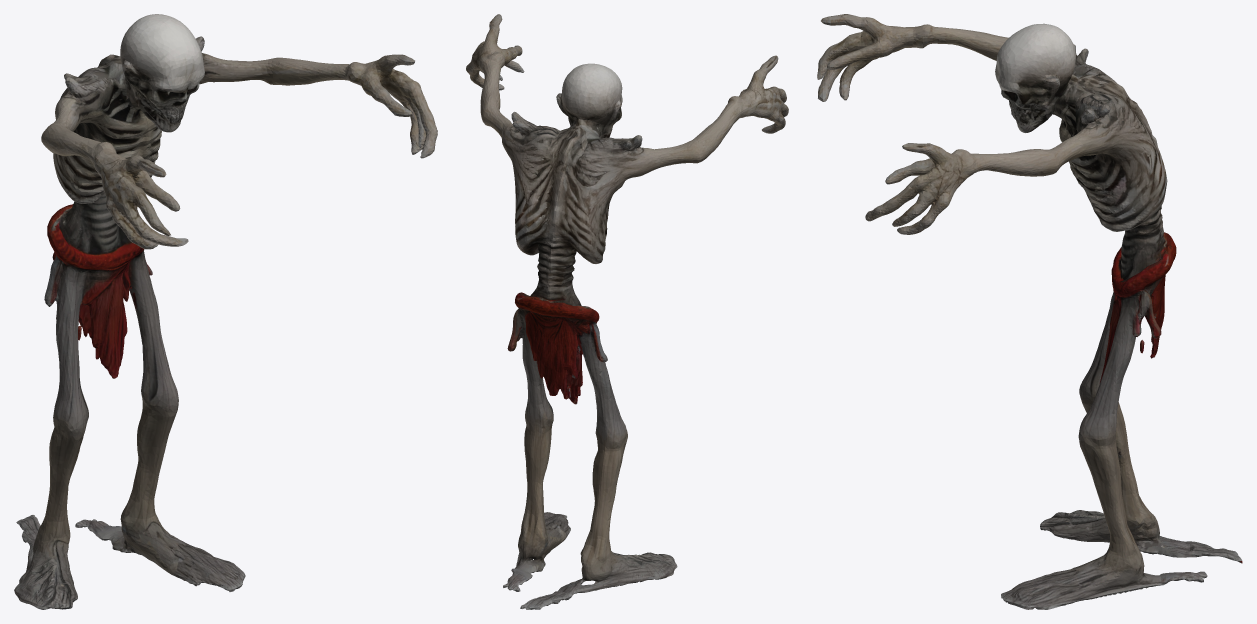
The model's file is humanoid_zombie.glb.
3 renders of one model, left to right at view 1: azimuth 30°, elevation 25°; view 2: azimuth 150°, elevation 25°; view 3: azimuth 270°, elevation 25°, orthographic. The views are drawn at different scales.
Parts seen in each view (by area): view 1: textured_mesh.obj; view 2: textured_mesh.obj; view 3: textured_mesh.obj.
Part boxes in pixels (x1,y1,x2,y2): textured_mesh.obj: (14, 14, 437, 609); textured_mesh.obj: (466, 14, 788, 609); textured_mesh.obj: (817, 14, 1242, 609).
Size of the model in its own units: 1.25 by 1.99 by 1.4.
1 material, 1 textured.
